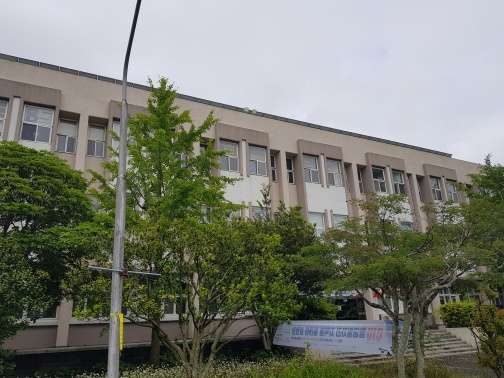Main Building of University: (13, 53, 504, 351)
